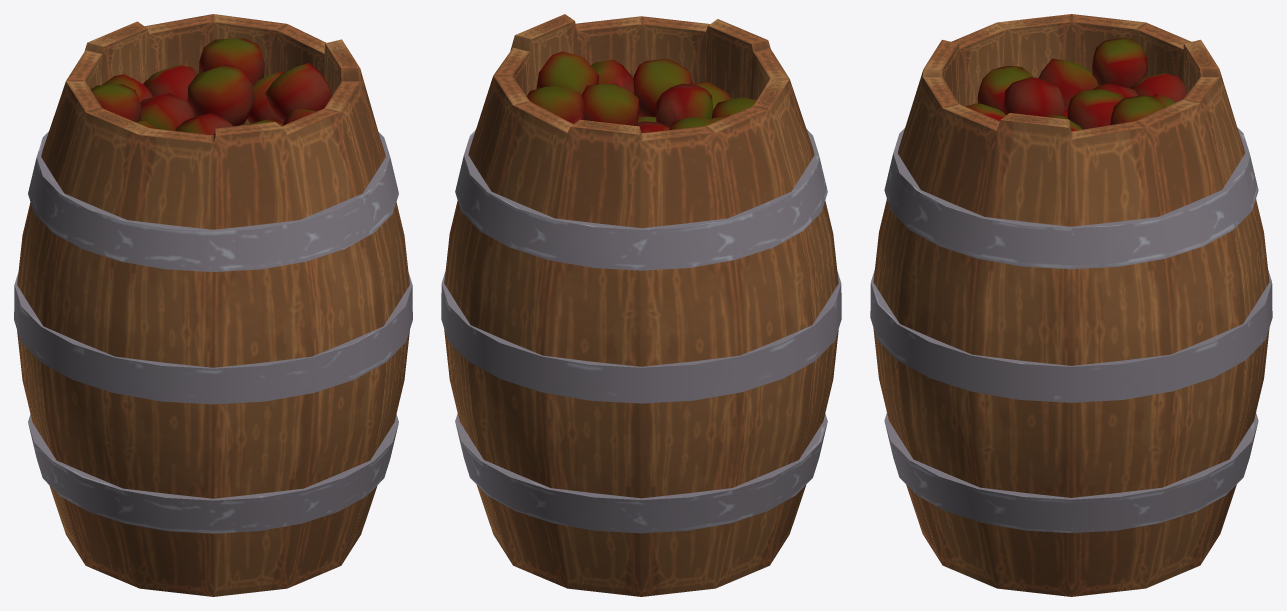
File: barrel_apples.glb
The picture shows the model from 3 angles, left to right: view 1: azimuth 30°, elevation 25°; view 2: azimuth 150°, elevation 25°; view 3: azimuth 270°, elevation 25°; orthographic projection.
Parts seen in each view (by area): view 1: Barrel_Apples; view 2: Barrel_Apples; view 3: Barrel_Apples.
Part boxes in pixels (x1=…): Barrel_Apples: x1=14, y1=14, x2=412, y2=596; Barrel_Apples: x1=441, y1=14, x2=841, y2=596; Barrel_Apples: x1=870, y1=14, x2=1272, y2=596.
Size of the model in its own units: 0.698 by 0.898 by 0.698.
3 materials, 3 textured.
